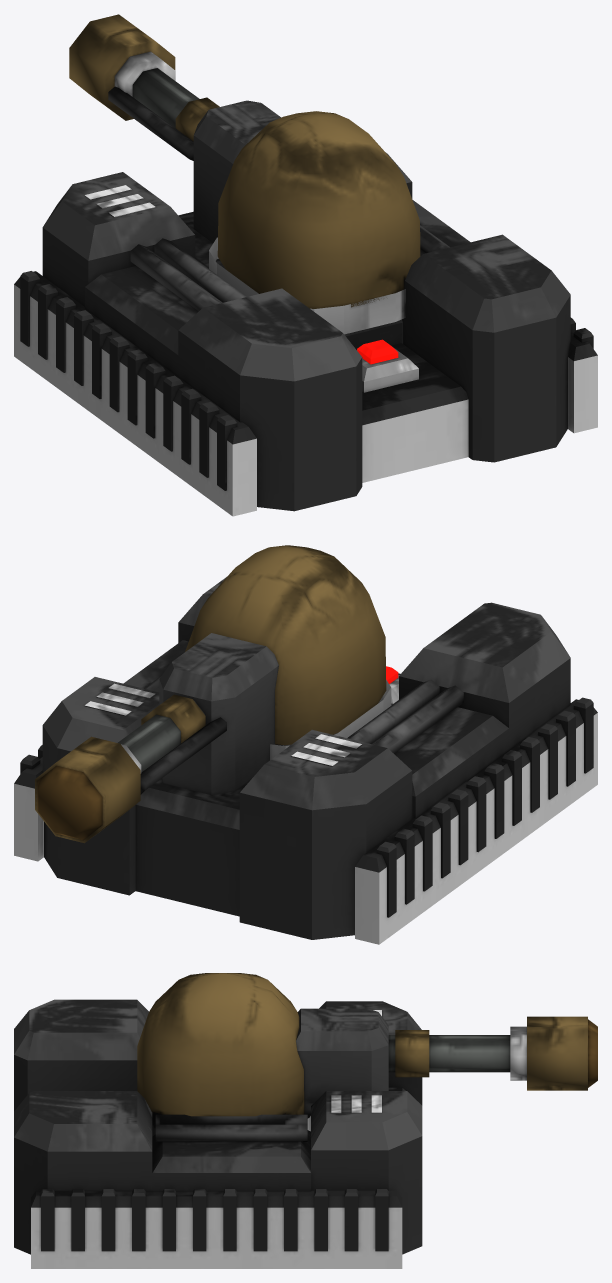
The model's file is newshp-13-f2.glb.
The picture shows the model from 3 angles, top to bottom: view 1: azimuth 30°, elevation 25°; view 2: azimuth 150°, elevation 25°; view 3: azimuth 270°, elevation 25°; orthographic projection. The views are drawn at different scales.
Visible parts, largest first — view 1: newshp-13-f2; view 2: newshp-13-f2; view 3: newshp-13-f2.
Boxes of the visible parts, x1,y1,x2,y2 form: newshp-13-f2: (14,14,597,516); newshp-13-f2: (14,545,597,944); newshp-13-f2: (14,973,597,1268).
Bounding box in the file's own units: 0.8917 × 0.6167 × 1.44.
Materials: 14 (14 with a texture image).
